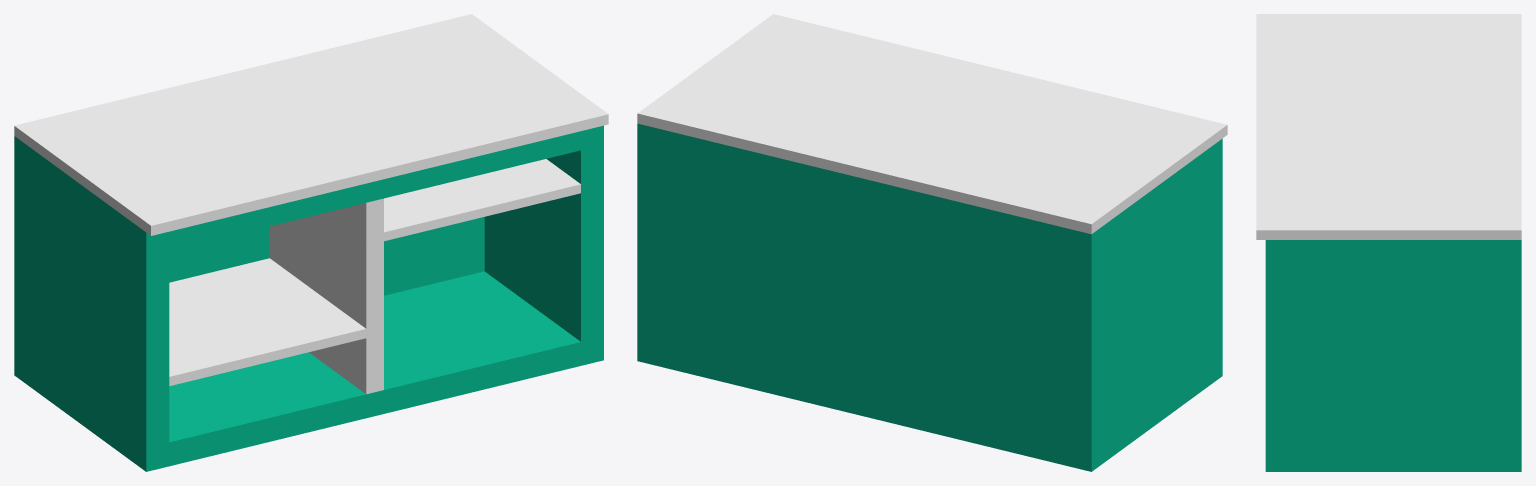
The model's file is Counter3.fbx.
3 views of the same model, side by side, from view 1: azimuth 30°, elevation 25°; view 2: azimuth 150°, elevation 25°; view 3: azimuth 270°, elevation 25° (orthographic). The views are drawn at different scales.
Parts seen in each view (by area): view 1: counter3; view 2: counter3; view 3: counter3.
Part boxes in pixels (x1=…): counter3: x1=14, y1=14, x2=608, y2=471; counter3: x1=637, y1=14, x2=1227, y2=471; counter3: x1=1256, y1=14, x2=1521, y2=471.
Size of the model in its own units: 400 by 208 by 207.
